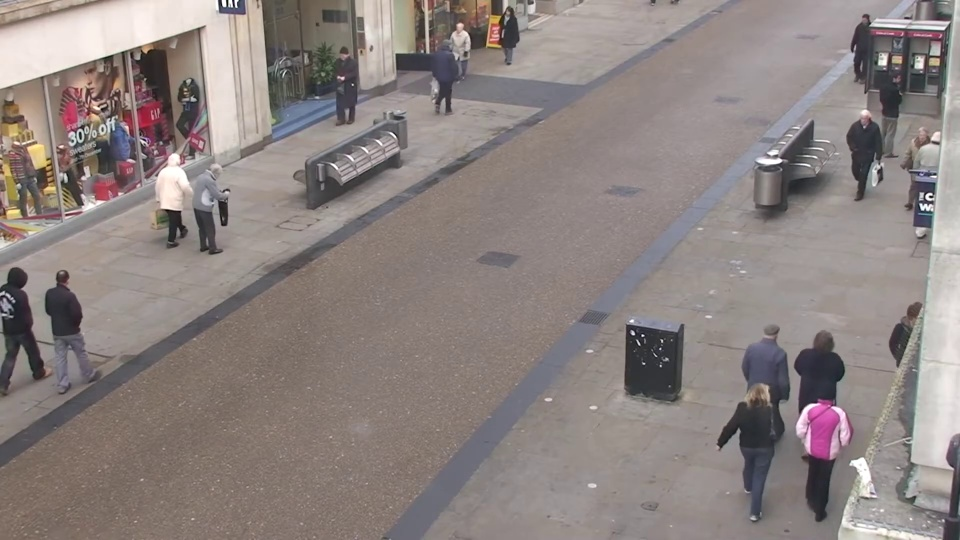pedestrian: (796, 364, 856, 527), (723, 365, 780, 527), (879, 301, 940, 449), (795, 317, 851, 467), (1, 254, 65, 385), (749, 311, 802, 459), (54, 260, 113, 391), (910, 125, 958, 227), (891, 125, 937, 227), (197, 158, 238, 262), (161, 145, 202, 246), (840, 107, 880, 202), (872, 67, 912, 154), (843, 13, 876, 86), (328, 47, 356, 123), (438, 35, 465, 108), (445, 22, 470, 91), (495, 5, 518, 70)
